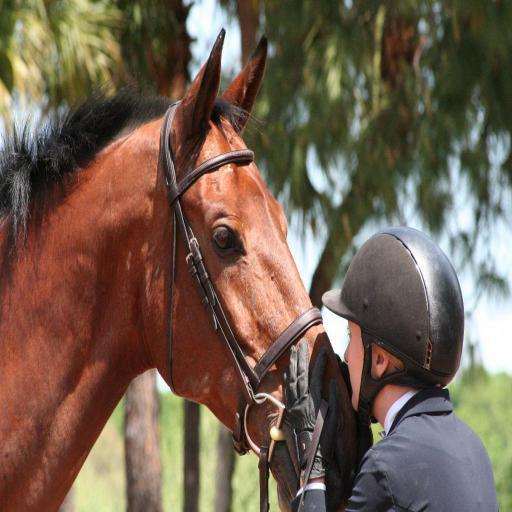horse: (0, 28, 356, 512)
